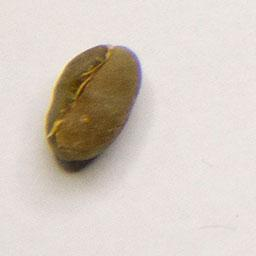peaberry: (41, 41, 144, 165)
